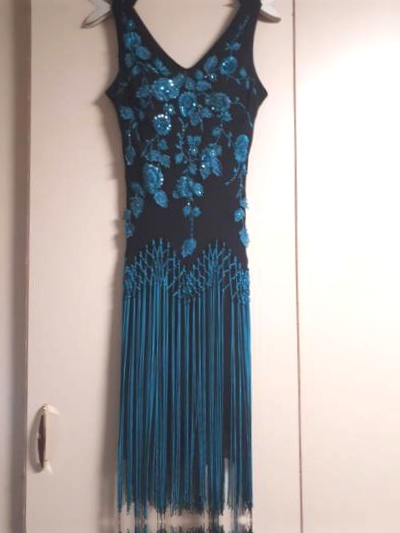Dress: (59, 11, 315, 518), (68, 525, 324, 533), (49, 0, 305, 0)
